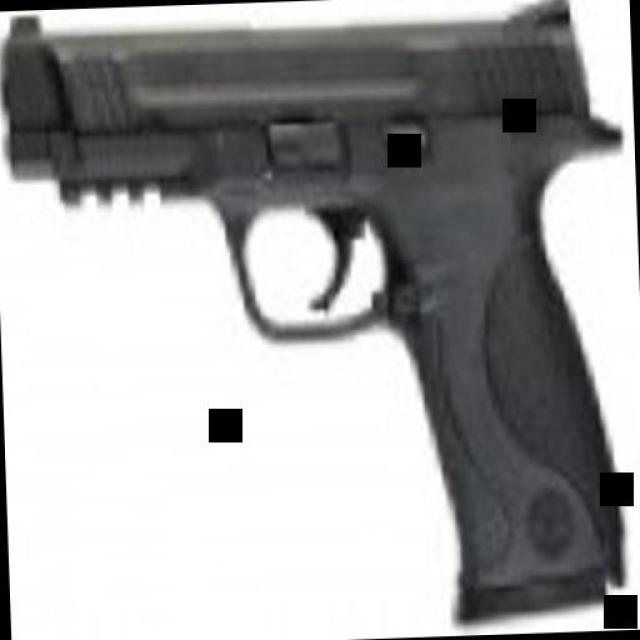gun: (8, 0, 624, 640)
